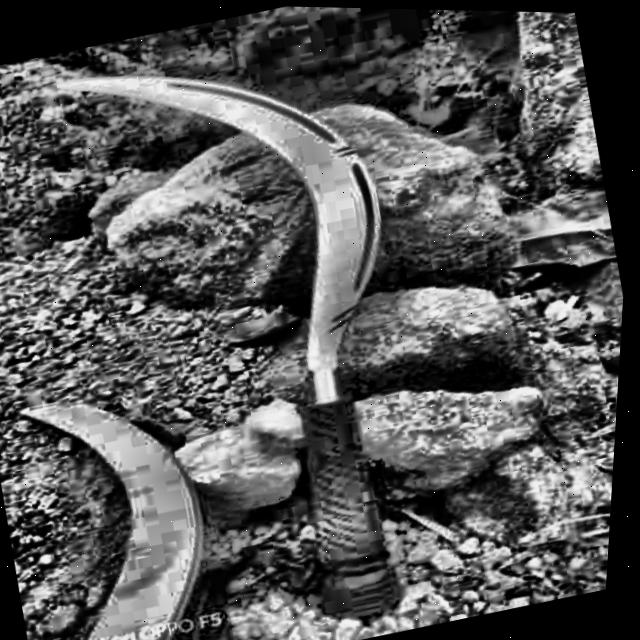celurit: (29, 71, 410, 626)
